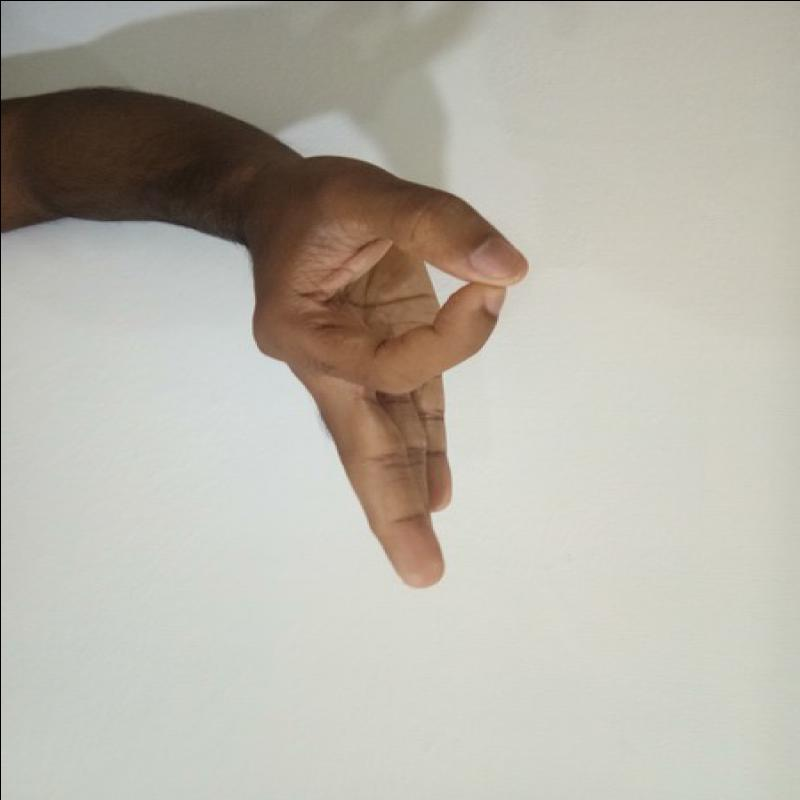Mudraakhyam: (233, 150, 546, 605)
